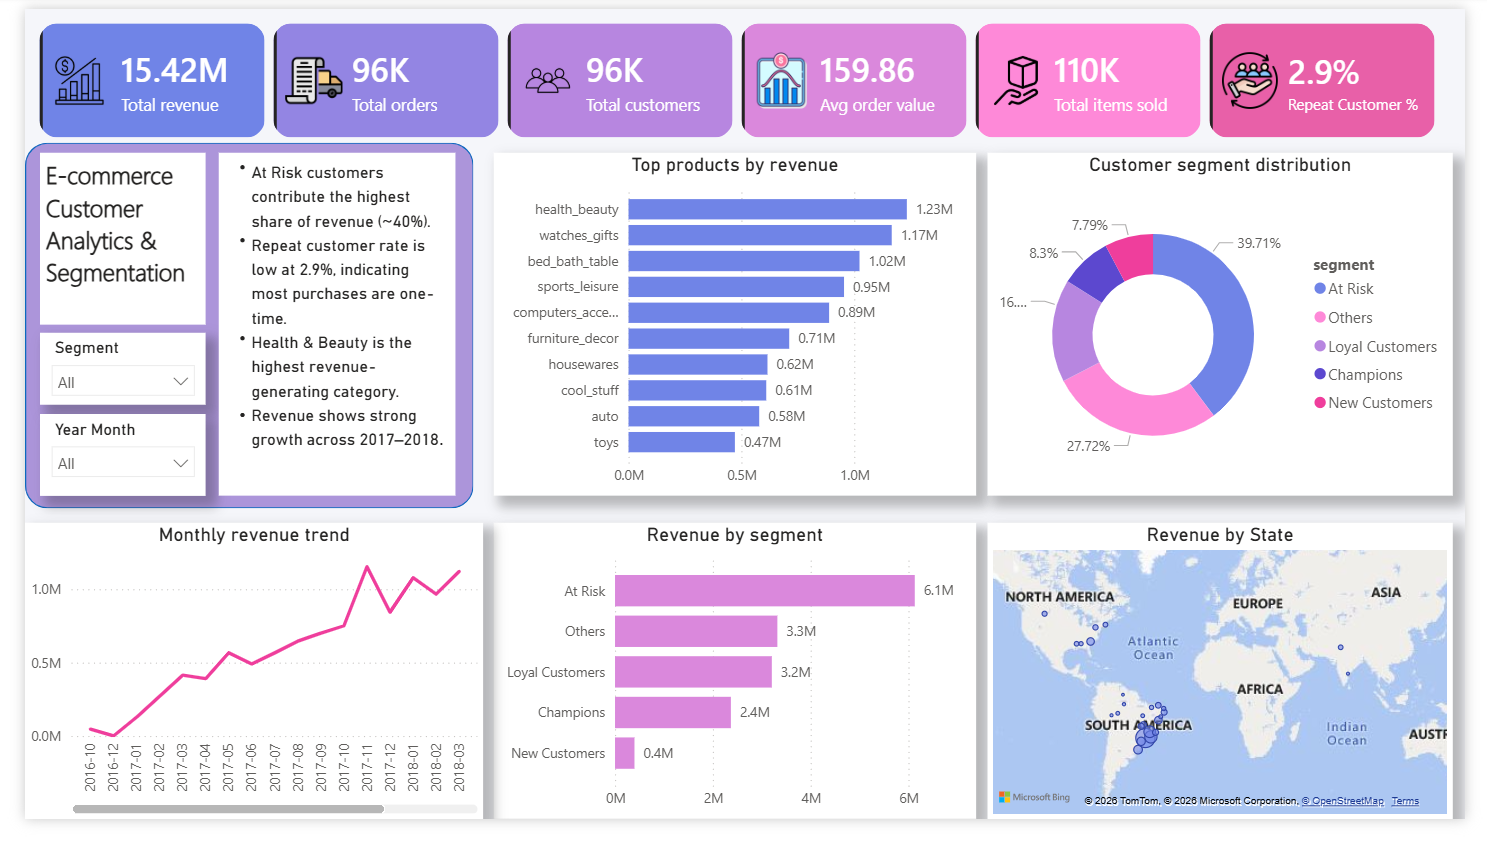

Layout of this report page (visuals, bound fields, positions):
{"tool":"powerbi","page":{"name":"Page 1","canvas":[1280,720],"ordinal":0},"visuals":[{"type":"cardVisual","fields":{"Data":["ecommerce_project fact_orders.Total revenue","ecommerce_project fact_orders.Total orders","ecommerce_project dim_customers.Total customers","ecommerce_project fact_orders.Avg order value","ecommerce_project fact_order_items.Total items sold","ecommerce_project fact_orders.Repeat Customer %"]},"box":[0,0,1268.8,127.5],"z":0},{"type":"barChart","title":"Top products by revenue","fields":{"Category":["ecommerce_project dim_products.product_category_name_english"],"Y":["Sum(ecommerce_project fact_order_items.price)"]},"box":[416.2,127.5,428.8,305],"z":1000},{"type":"barChart","title":"Revenue by segment","fields":{"Category":["customer segmentation.segment"],"Y":["ecommerce_project fact_orders.Total revenue"]},"box":[416.7,456.7,428.9,263.3],"z":2000},{"type":"donutChart","title":"Customer segment distribution","fields":{"Category":["customer segmentation.segment"],"Y":["CountNonNull(customer segmentation.customer_unique_id)"]},"box":[855,127.5,413.8,305],"z":3000},{"type":"lineChart","title":"Monthly revenue trend","fields":{"Category":["ecommerce_project dim_dates.year_mth"],"Y":["ecommerce_project fact_orders.Total revenue"]},"box":[0,456.2,407.5,263.8],"z":4000},{"type":"map","title":"Revenue by State","fields":{"Size":["ecommerce_project fact_orders.Total revenue"],"Category":["ecommerce_project dim_customers.customer_state"]},"box":[855,456.2,413.8,263.8],"z":5000},{"type":"shape","box":[0,118.8,398.8,325],"z":5500},{"type":"slicer","fields":{"Values":["customer segmentation.segment"]},"box":[13.8,287.5,147.5,63.8],"z":6000},{"type":"slicer","fields":{"Values":["ecommerce_project dim_dates.year_mth"]},"box":[13.8,360,147.5,72.5],"z":7000},{"type":"textbox","box":[13.8,127.5,147.5,152.5],"z":7001},{"type":"textbox","box":[172.5,127.5,210,305],"z":7002}]}

Visuals, with their boxes in screenshot pixels (x1, y1, x2, y2), scaled from the page's 1280x720 canvas onto the 1487x845 screenshot:
cardVisual - ecommerce_project fact_orders.Total revenue x ecommerce_project fact_orders.Total orders: <bbox>0, 0, 1474, 150</bbox>
"Top products by revenue" barChart: <bbox>484, 150, 982, 508</bbox>
"Revenue by segment" barChart: <bbox>484, 536, 982, 844</bbox>
"Customer segment distribution" donutChart: <bbox>993, 150, 1474, 508</bbox>
"Monthly revenue trend" lineChart: <bbox>0, 535, 473, 844</bbox>
"Revenue by State" map: <bbox>993, 535, 1474, 844</bbox>
shape: <bbox>0, 139, 463, 521</bbox>
slicer - customer segmentation.segment: <bbox>16, 337, 187, 412</bbox>
slicer - ecommerce_project dim_dates.year_mth: <bbox>16, 422, 187, 508</bbox>
textbox: <bbox>16, 150, 187, 329</bbox>
textbox: <bbox>200, 150, 444, 508</bbox>
